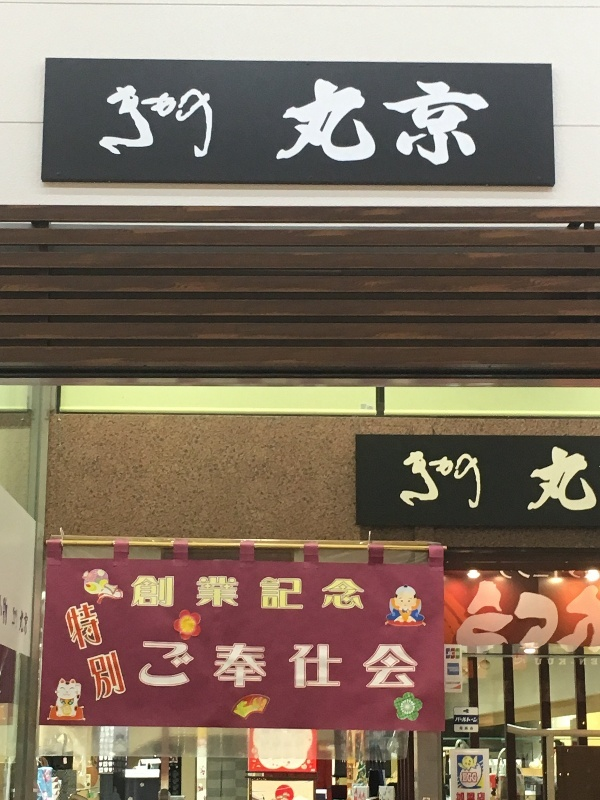text: (97, 589, 112, 714), (113, 589, 128, 714), (289, 74, 304, 171), (305, 74, 320, 171), (321, 74, 336, 171), (337, 74, 352, 171), (353, 74, 368, 171), (369, 74, 384, 171), (385, 74, 400, 171), (401, 74, 416, 171), (417, 74, 432, 171), (433, 74, 448, 171), (449, 74, 464, 171), (465, 74, 480, 171), (481, 74, 495, 171), (113, 83, 128, 166), (129, 83, 144, 166), (145, 83, 160, 166), (161, 83, 176, 166), (177, 83, 192, 166), (193, 83, 208, 166), (481, 582, 496, 658), (497, 582, 512, 658), (513, 582, 528, 658), (529, 582, 544, 658), (545, 582, 560, 658), (561, 582, 576, 658), (577, 582, 592, 658), (545, 442, 560, 517), (561, 442, 576, 517), (577, 442, 592, 517), (466, 582, 480, 658), (88, 589, 96, 714), (417, 449, 432, 514), (433, 449, 448, 514), (449, 449, 464, 514), (465, 449, 480, 514), (402, 449, 416, 514), (532, 442, 544, 517), (209, 83, 218, 166), (145, 642, 160, 689), (161, 642, 176, 689), (177, 642, 192, 689), (193, 642, 208, 689), (209, 642, 224, 689), (225, 642, 240, 689), (241, 642, 256, 689), (257, 642, 272, 689), (273, 642, 288, 689), (289, 642, 304, 689), (305, 642, 320, 689), (321, 642, 336, 689), (337, 642, 352, 689), (353, 642, 368, 689), (369, 642, 384, 689), (385, 642, 400, 689), (401, 642, 416, 689), (2, 598, 16, 641), (145, 575, 160, 614), (161, 575, 176, 614), (177, 575, 192, 614), (193, 575, 208, 614), (209, 575, 224, 614), (225, 575, 240, 614), (241, 575, 256, 614), (257, 575, 272, 614), (273, 575, 288, 614), (289, 575, 304, 614), (305, 575, 320, 614), (321, 575, 336, 614), (337, 575, 352, 614), (105, 83, 112, 166), (17, 598, 30, 641), (130, 575, 144, 614), (593, 582, 600, 658), (593, 442, 600, 517), (353, 575, 365, 614), (284, 74, 288, 171), (465, 772, 478, 786), (141, 642, 144, 689), (465, 716, 479, 726), (481, 449, 483, 514), (417, 642, 419, 689), (455, 716, 464, 726), (485, 793, 496, 799), (461, 772, 464, 786)
